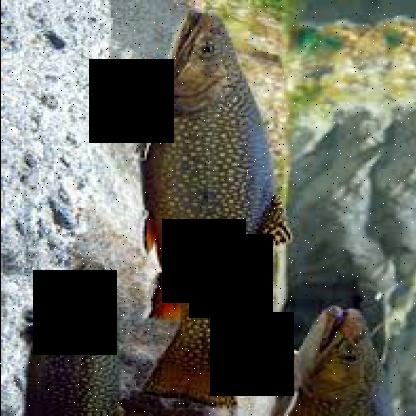fish: (144, 9, 294, 414)
